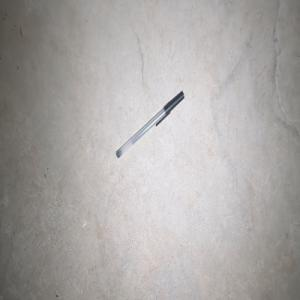Pen: (116, 90, 184, 158)
